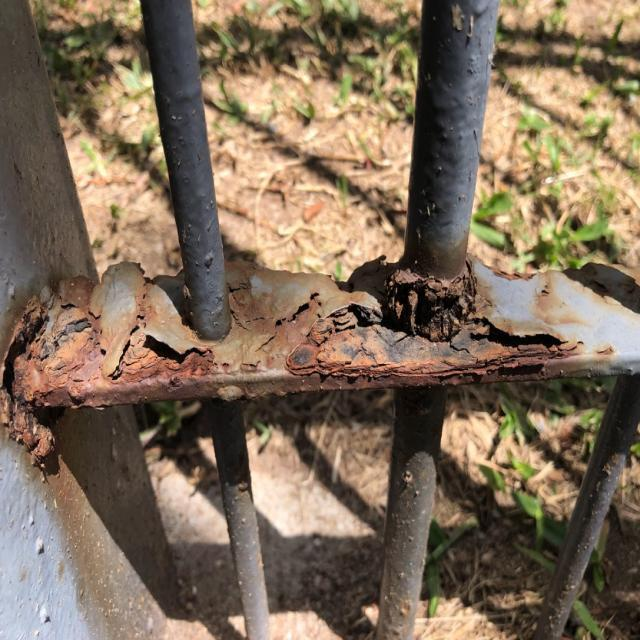Corrosion: (2, 1, 638, 638), (1, 250, 638, 461)
